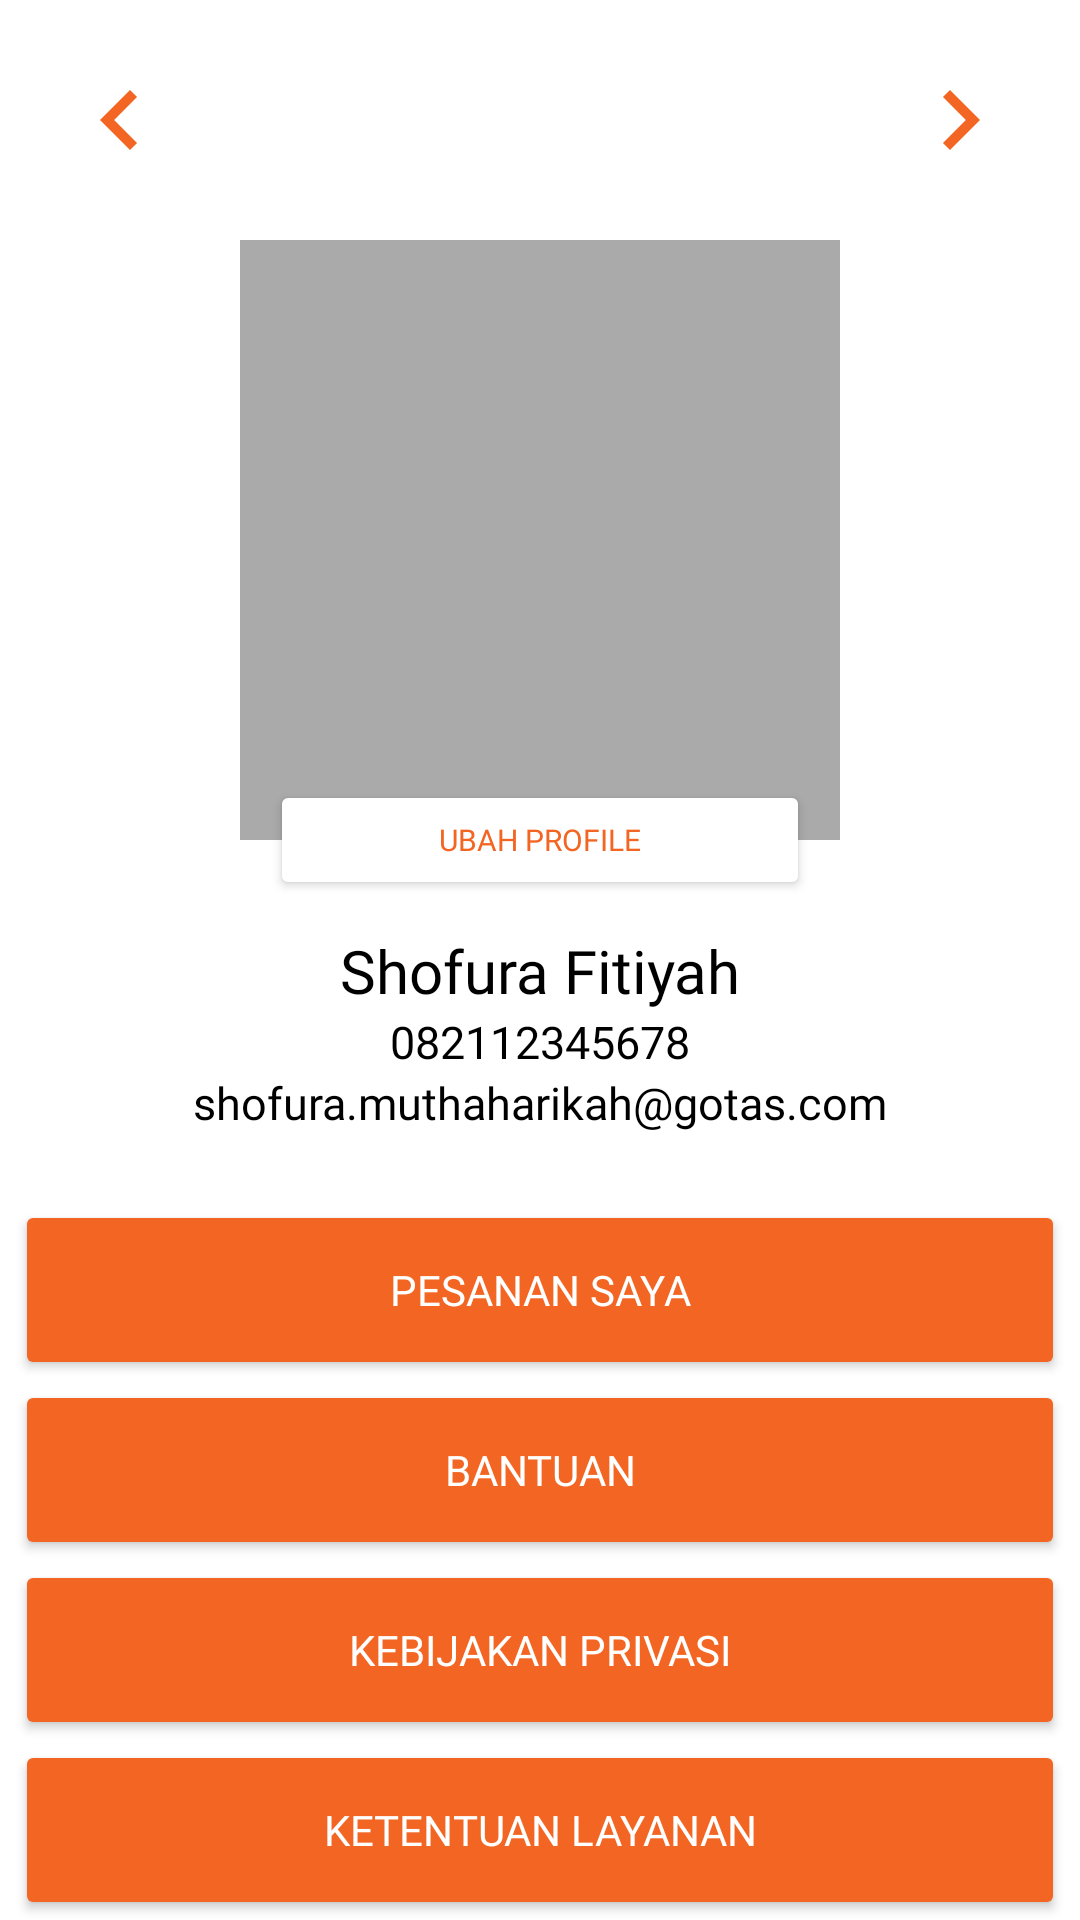

Locate icon controls on the screen. Image size 1080w x 1920h, boxes as bbox=(x1, y1, x2, y2).
navigate before: bbox=(100, 90, 137, 150)
navigate next: bbox=(943, 90, 980, 150)
